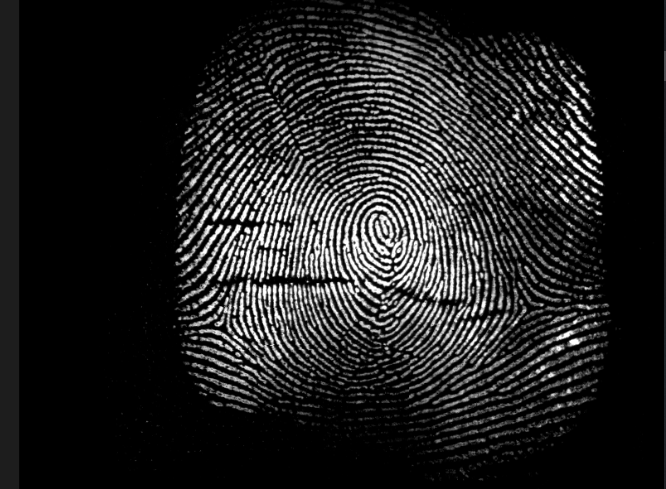nucelo: (364, 208, 398, 248)
verticilo: (204, 305, 238, 344), (506, 289, 545, 315)
